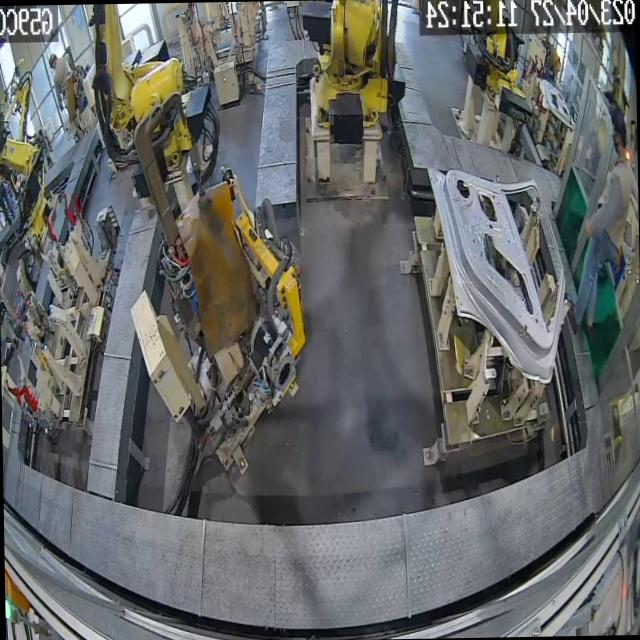Person: (562, 106, 636, 334), (49, 52, 68, 111)
